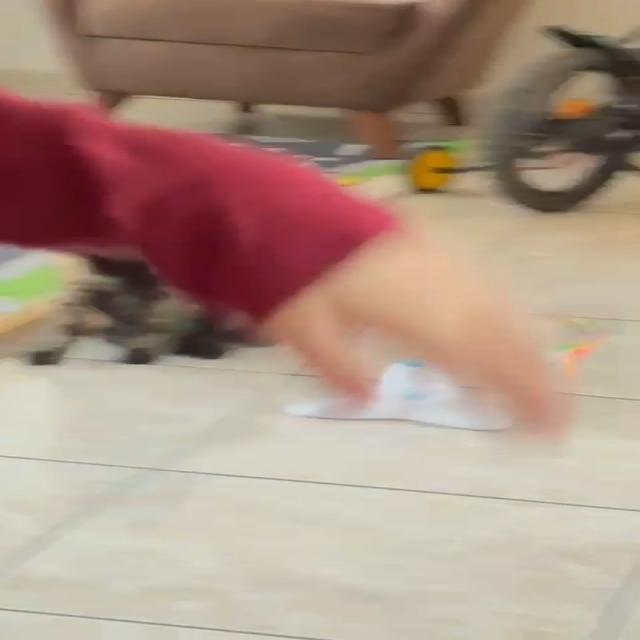authorized: (28, 252, 247, 366)
